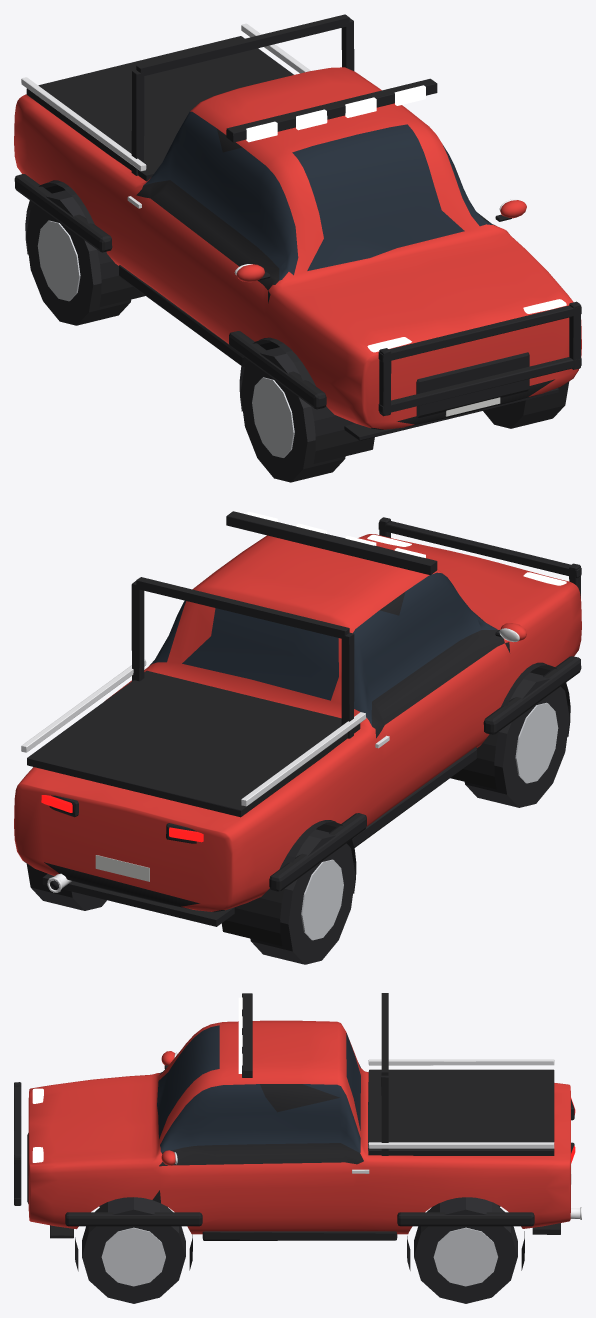
Rendered from tundra_lod.glb.
3 renders of one model, top to bottom at view 1: azimuth 30°, elevation 25°; view 2: azimuth 150°, elevation 25°; view 3: azimuth 270°, elevation 25°, orthographic. The views are drawn at different scales.
Visible parts, largest first — view 1: body, wheel_rr, wheel_fr, wheel_fl; view 2: body, wheel_rr, wheel_fr, wheel_rl; view 3: body, wheel_fl, wheel_rl.
Part boxes in pixels (box(x1,y1,x2,y2)): body: box(14, 14, 581, 463); wheel_rr: box(26, 190, 131, 325); wheel_fr: box(240, 347, 345, 482); wheel_fl: box(483, 381, 569, 428); body: box(14, 511, 581, 946); wheel_rr: box(250, 829, 355, 964); wheel_fr: box(464, 672, 569, 807); wheel_rl: box(26, 864, 106, 910); body: box(14, 993, 581, 1271); wheel_fl: box(82, 1197, 185, 1303); wheel_rl: box(414, 1197, 517, 1303).
Bounding box in the file's own units: 2.33 × 2.23 × 5.13.
